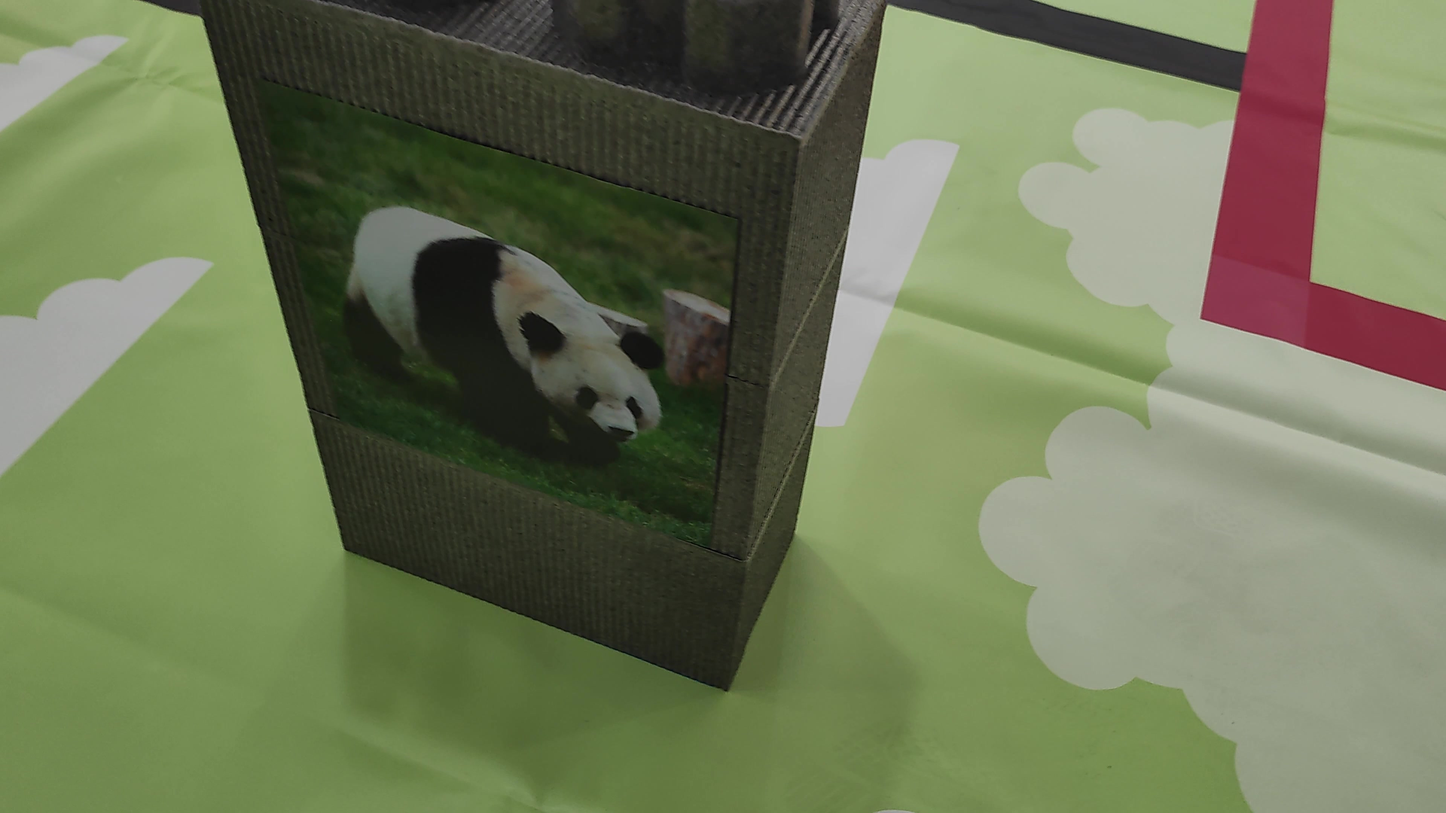panda: (317, 187, 700, 497)
